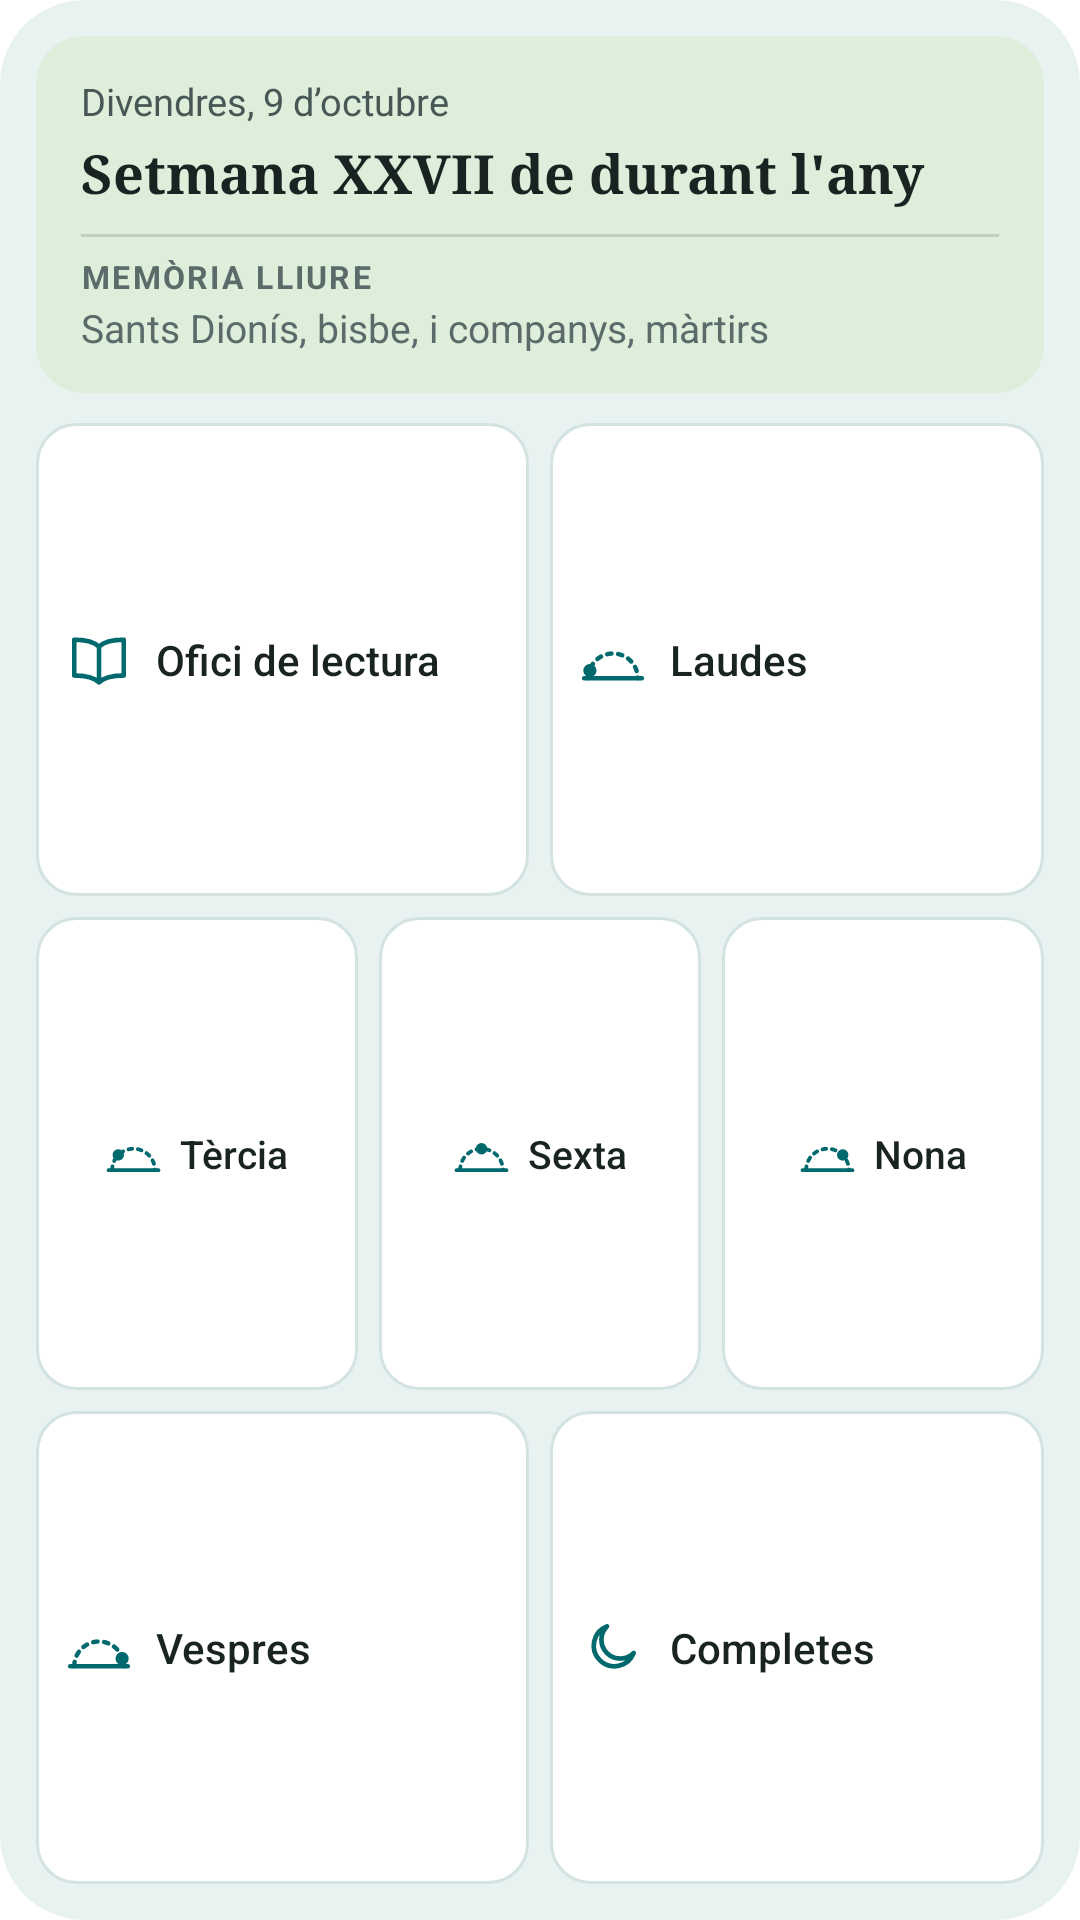

Where icons sit on this 1080w x 1920h app screen, as [x1=x1, y1=y1, x2=x2, y2=y2]:
hour ofici: [x1=72, y1=637, x2=126, y2=685]
hour tercia: [x1=106, y1=1147, x2=161, y2=1172]
